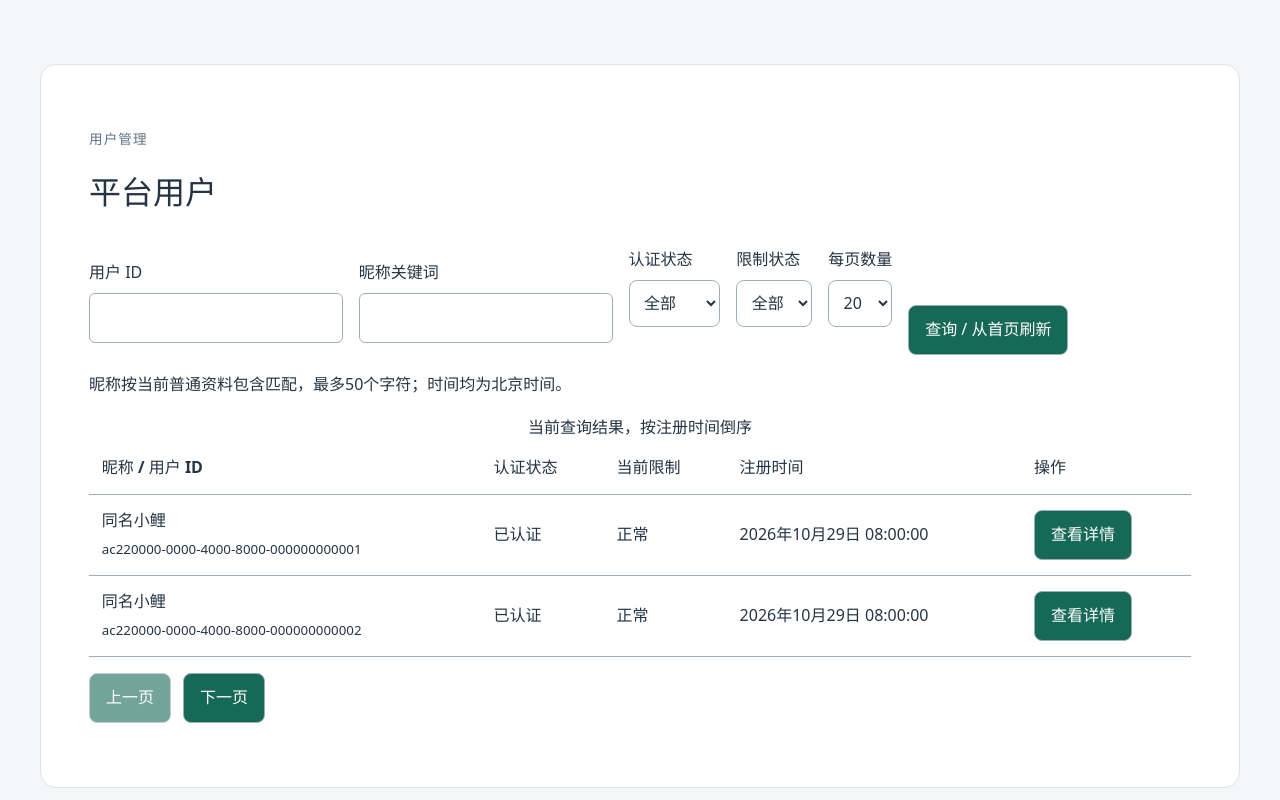
Test: UM-A02–A06 平台用户页面 › 404清空详情并刷新列表；503不伪装空页
Click the button "查看详情" in the row of "ac220000-0000-4000-8000-000000000001". click: (1083, 535)
box: [1034,510,1132,560]
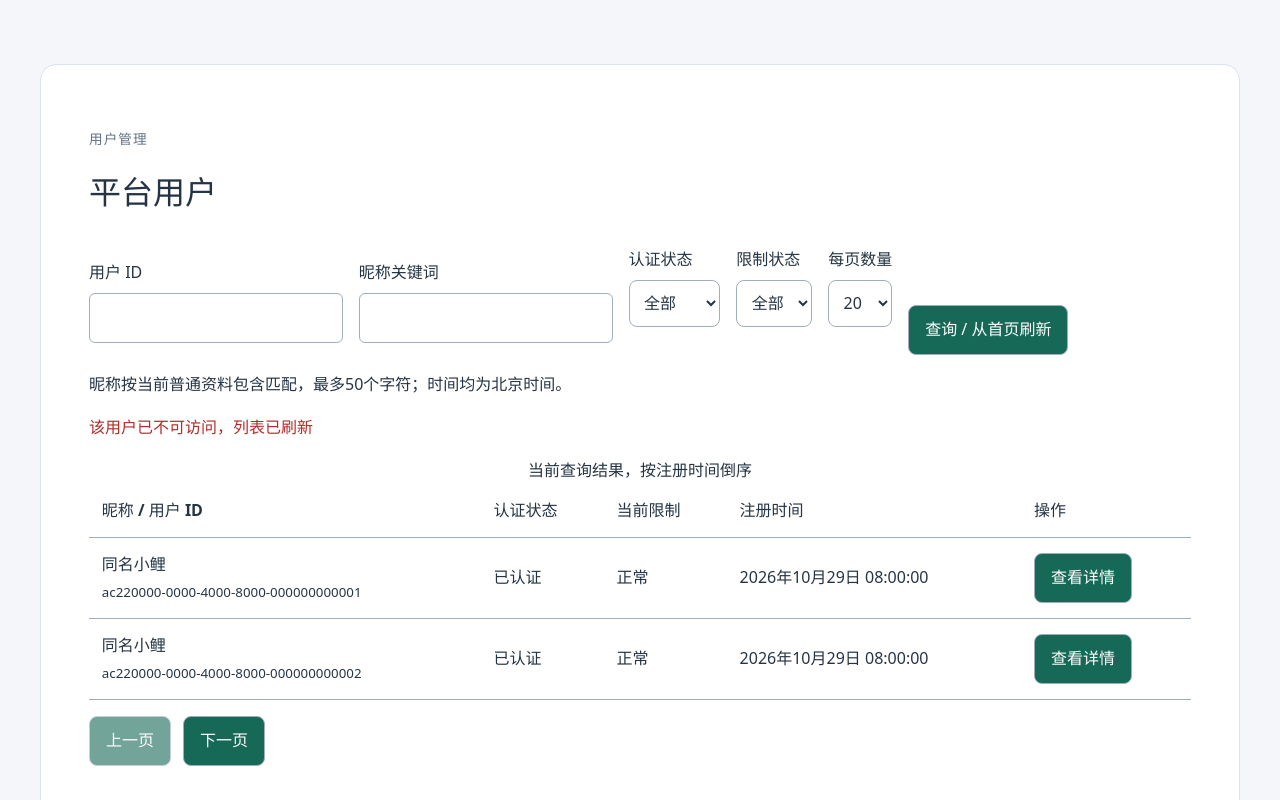
Submit the form, box [89,234,1191,355]
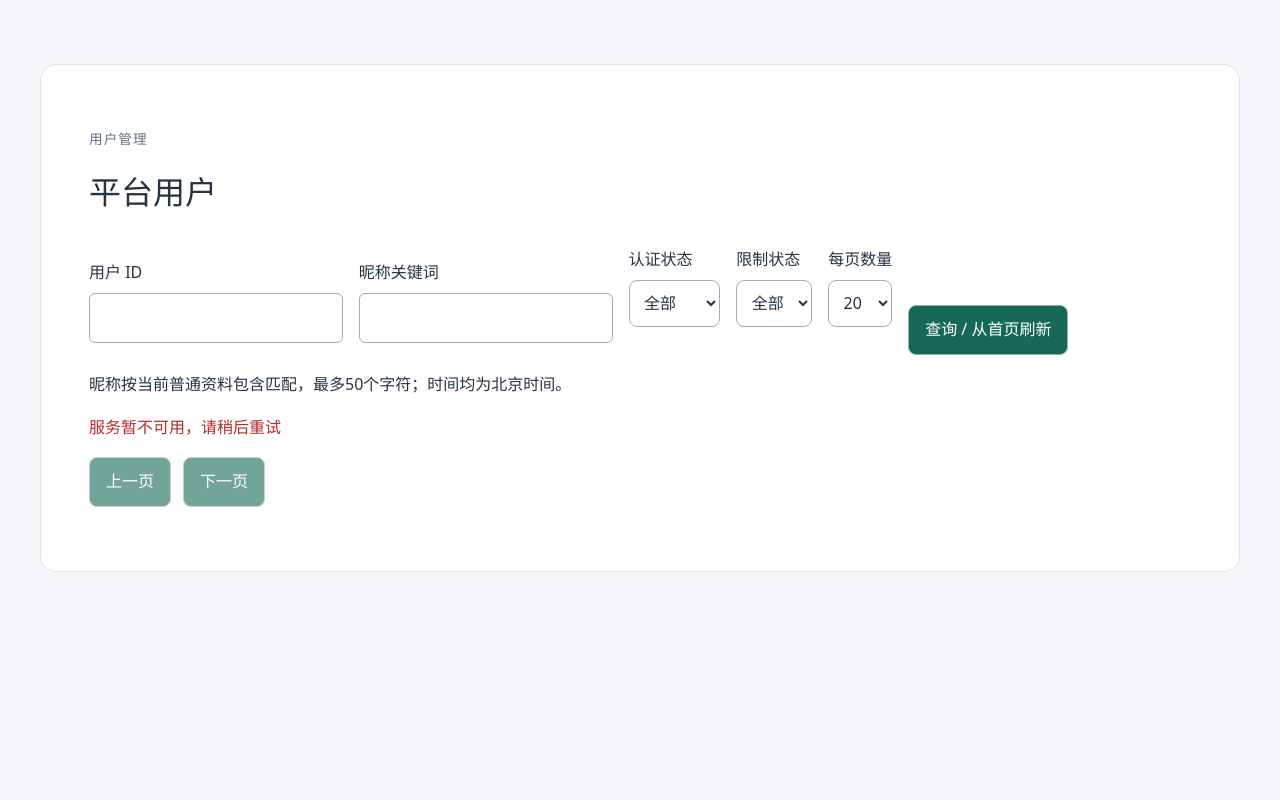
Check: the text "服务暂不可用" is shown, box [89,416,281,438]
